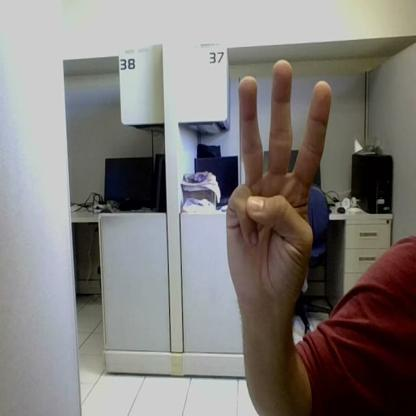W: (227, 61, 331, 302)
